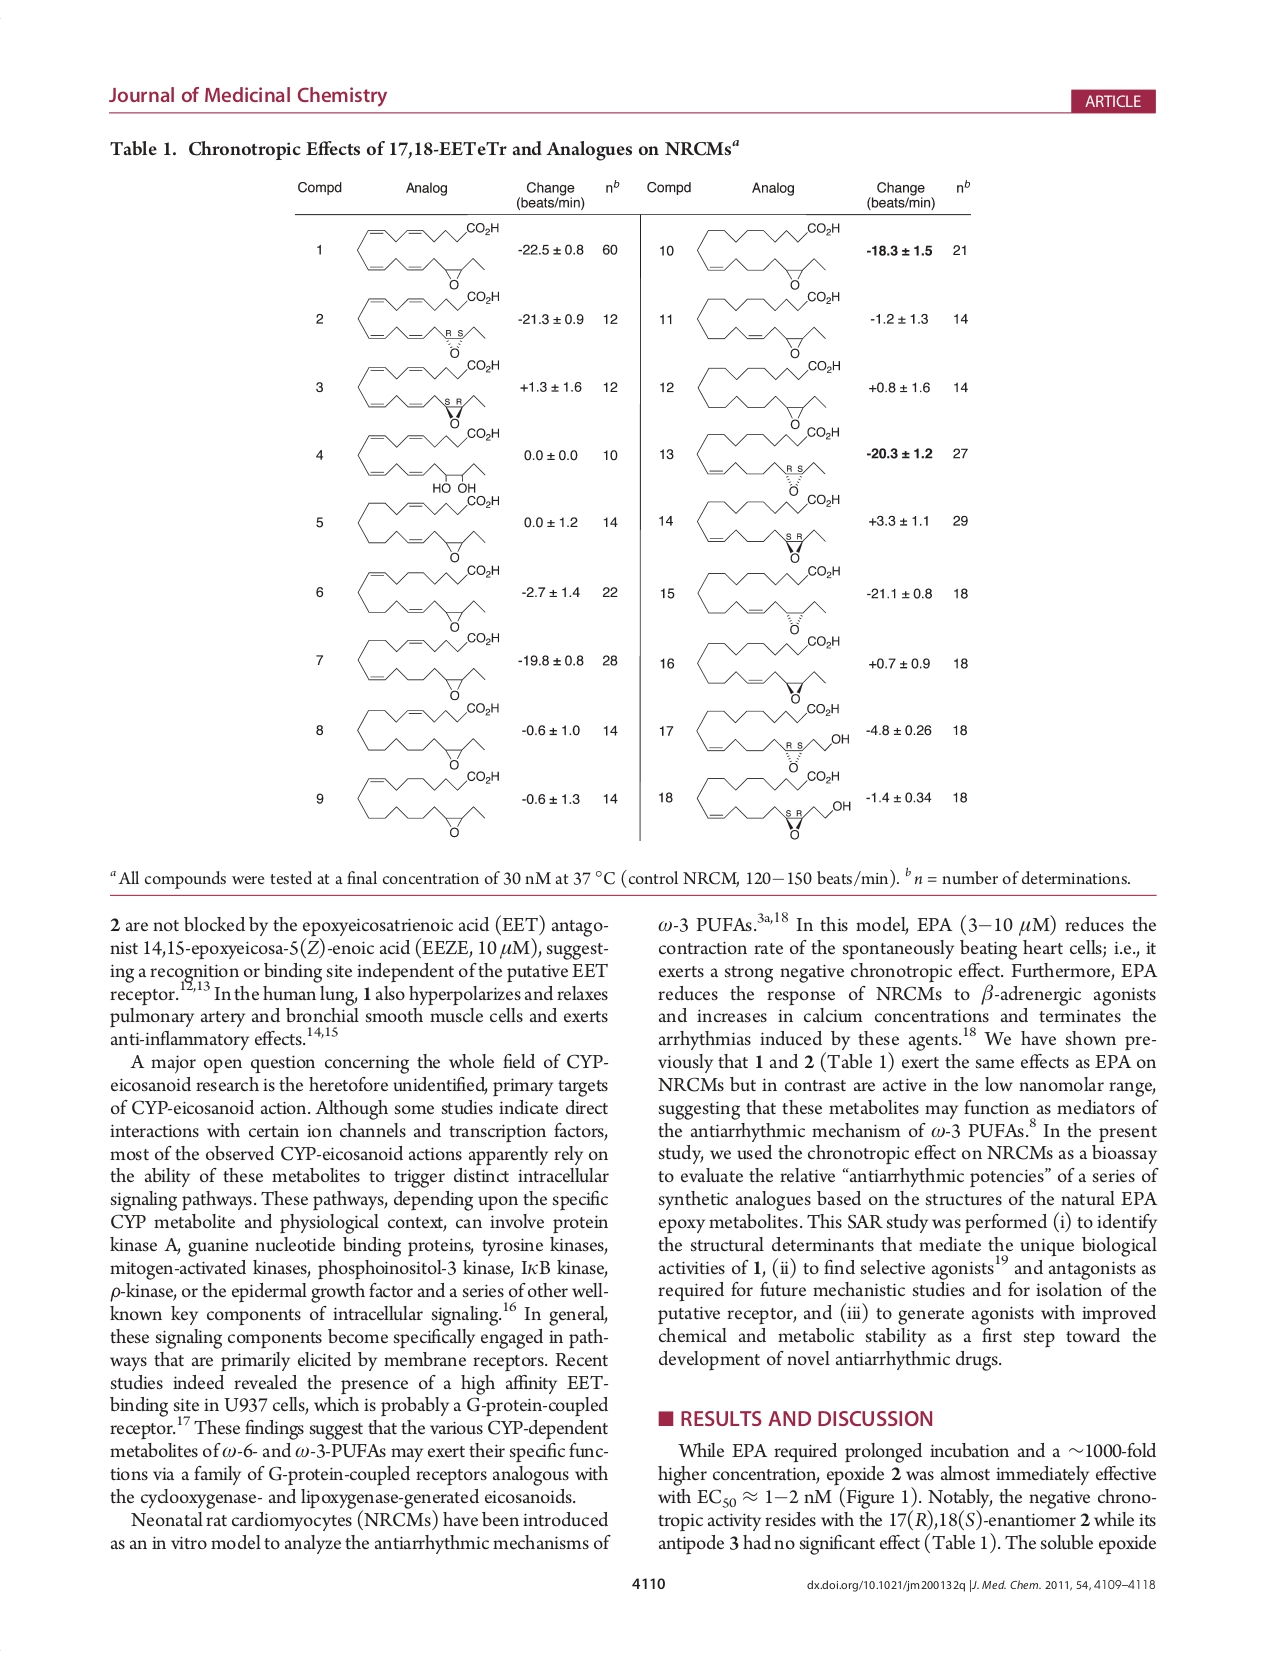exist_molecular: (692, 771, 852, 843), (693, 704, 850, 773), (693, 492, 842, 564), (352, 493, 501, 565), (352, 700, 501, 771), (692, 359, 843, 430), (352, 564, 505, 633), (696, 564, 842, 636), (352, 219, 501, 290), (352, 359, 501, 430), (694, 290, 842, 360), (693, 426, 840, 496), (355, 630, 503, 701), (352, 428, 503, 497), (696, 221, 844, 290), (354, 769, 501, 838), (352, 290, 501, 358), (696, 636, 840, 705)
